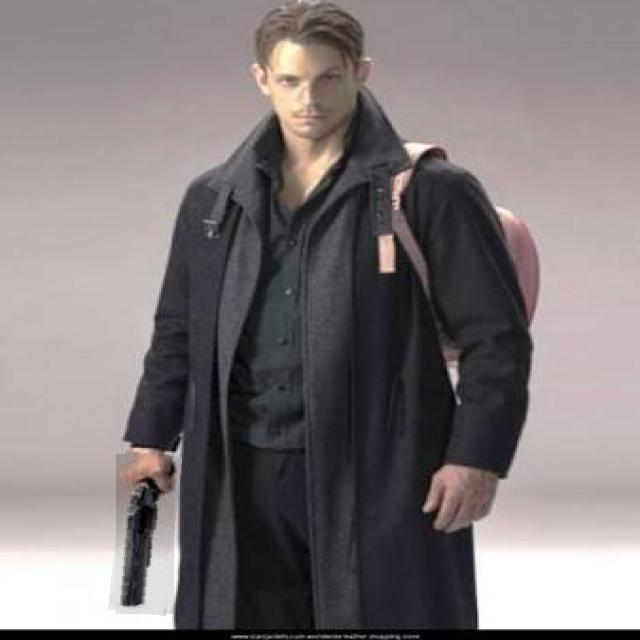handgun: (112, 452, 178, 616)
